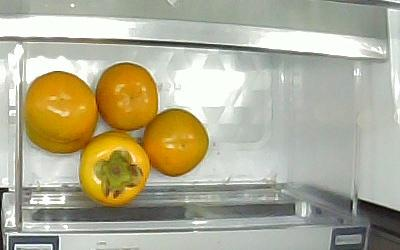persimmon: (25, 71, 98, 155), (79, 132, 150, 208), (141, 107, 210, 177), (95, 62, 158, 131)
